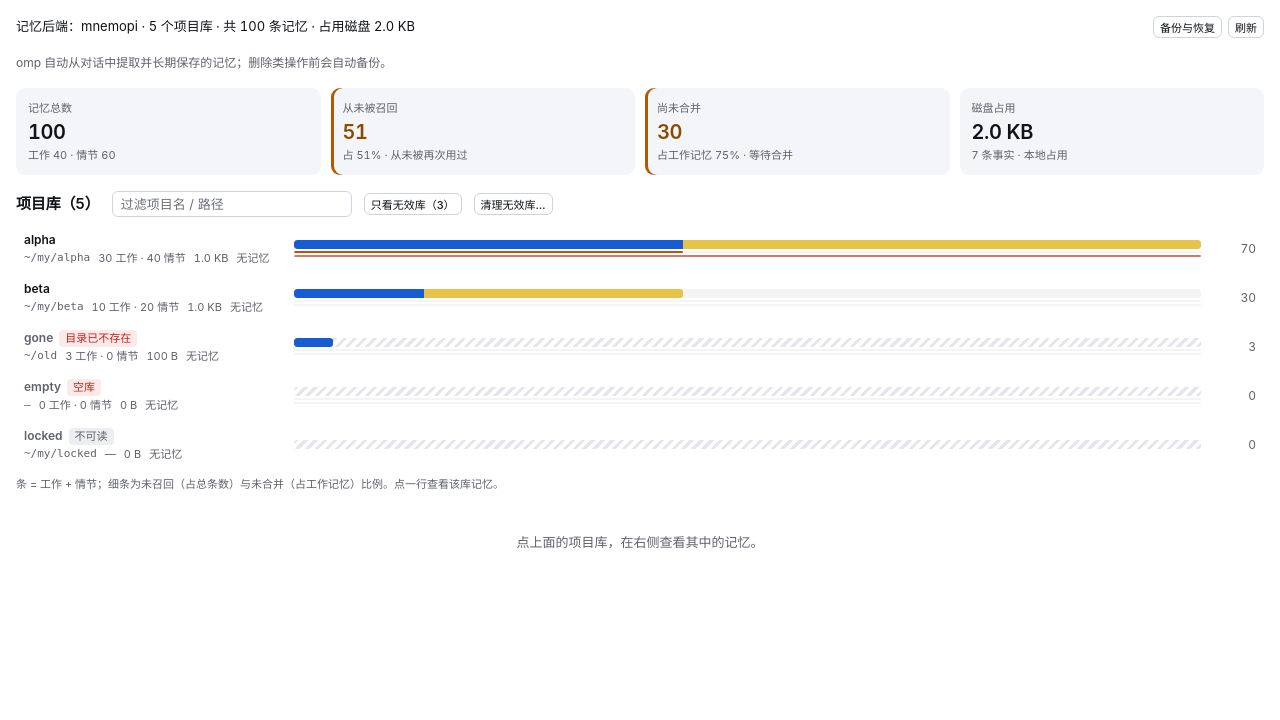
Scenario: 删除确认框 › 显示预览数字与级联，按勾选顺序发送 ids，成功后刷新并清空
Click the button "alpha": {"x": 640, "y": 248} x1=16 y1=225 x2=1264 y2=272
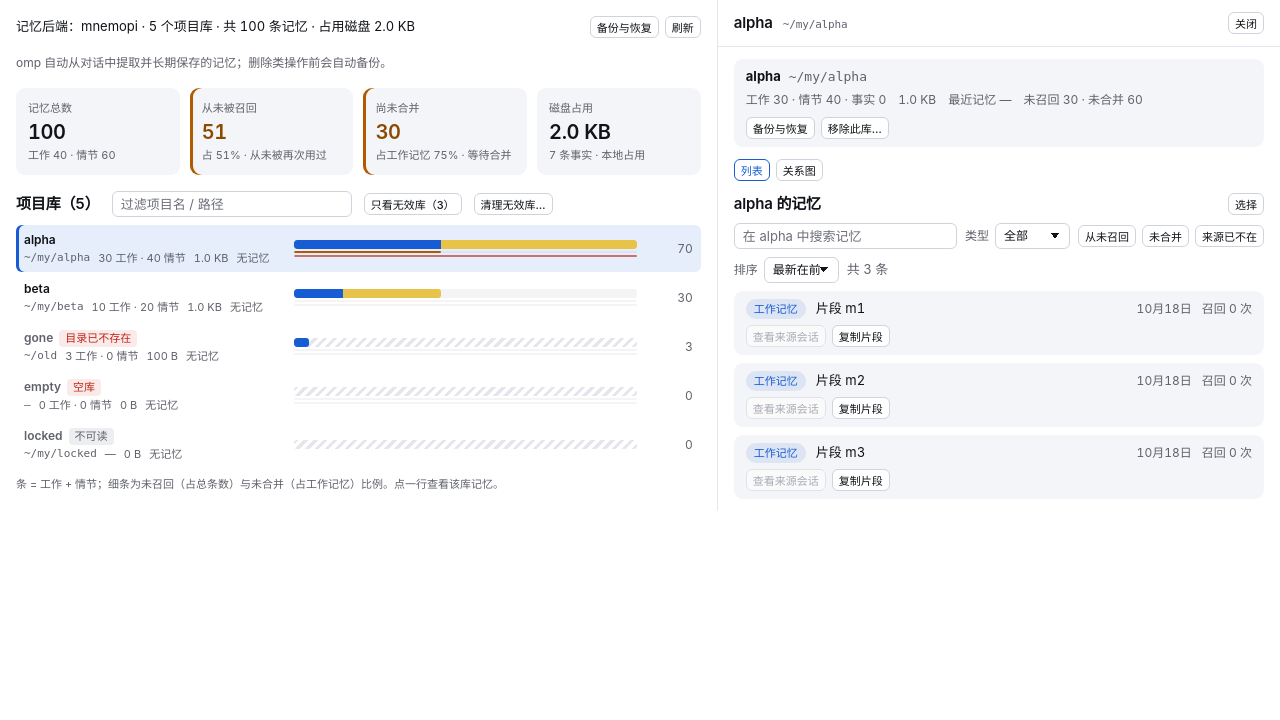
Expected: the text "片段 m1" is shown, x1=816 y1=300 x2=865 y2=316
Click the button "选择": {"x": 1246, "y": 204} x1=1228 y1=192 x2=1264 y2=214
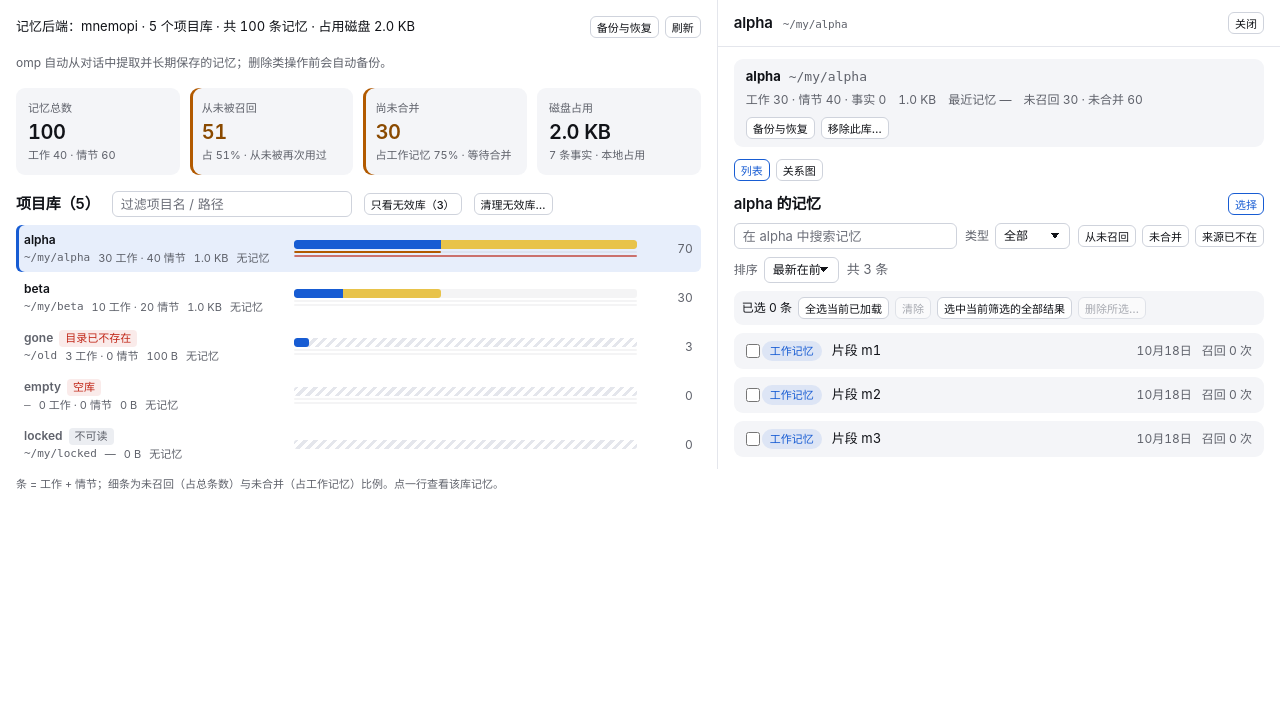
Click the checkbox named "选择：片段 m2": {"x": 753, "y": 394} x1=746 y1=388 x2=760 y2=402
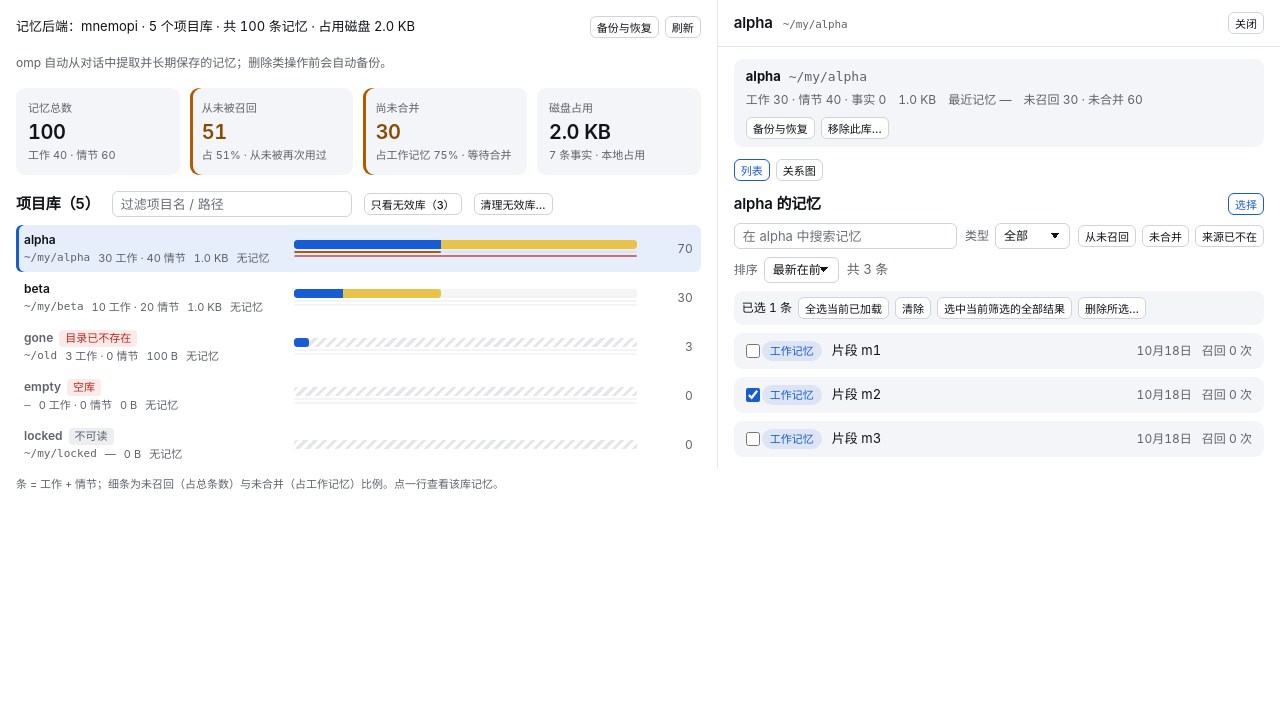
Click the checkbox named "选择：片段 m1": {"x": 753, "y": 350} x1=746 y1=344 x2=760 y2=358
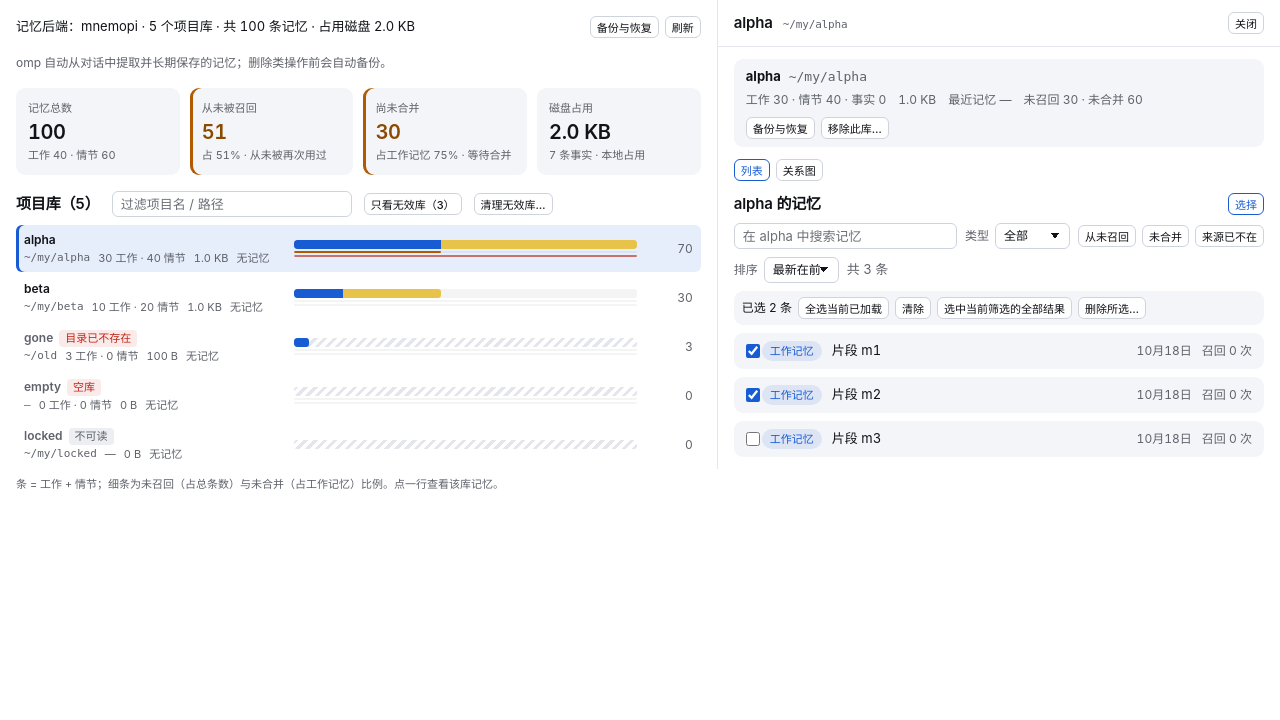
Click the button "删除所选…": {"x": 1112, "y": 308} x1=1078 y1=296 x2=1146 y2=318
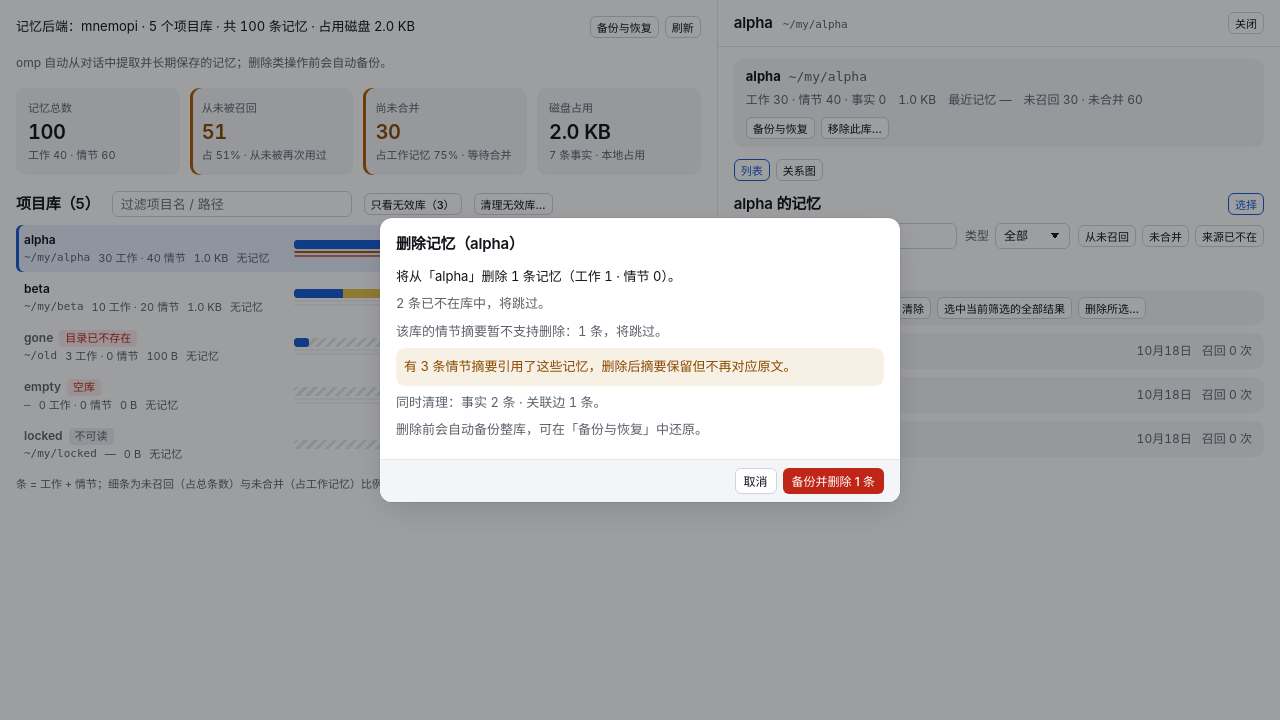
Expected: the text "将从「alpha」删除 1 条记忆（工作 1 · 情节 0）。" is shown, x1=396 y1=268 x2=681 y2=284
Expected: the text "2 条已不在库中，将跳过。" is shown, x1=396 y1=295 x2=551 y2=311
Expected: the text "该库的情节摘要暂不支持删除：1 条，将跳过。" is shown, x1=396 y1=323 x2=668 y2=339
Click the button "备份并删除 1 条": {"x": 833, "y": 481} x1=783 y1=468 x2=884 y2=494
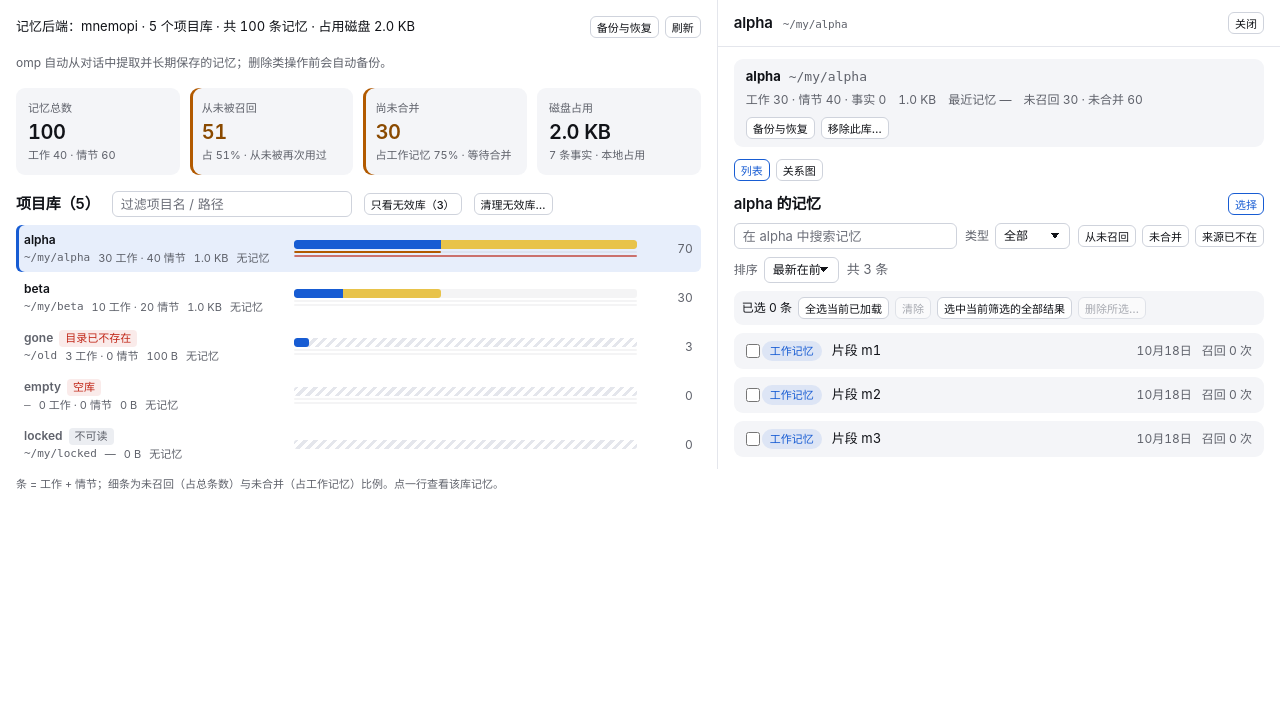
Expected: the dialog is gone
Expected: the text "已选 0 条" is shown, x1=742 y1=298 x2=792 y2=316
